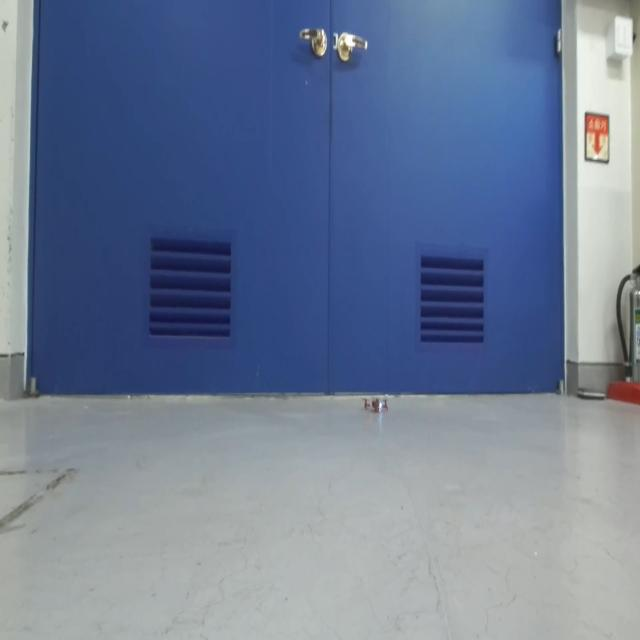crazyflie: (362, 394, 388, 418)
